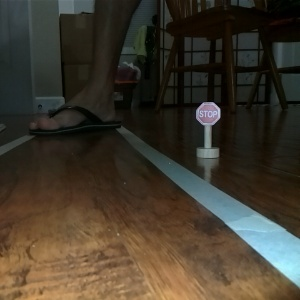stop sign: (193, 99, 222, 160)
